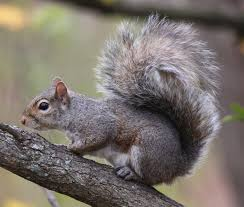squirrel: (17, 13, 220, 185)
